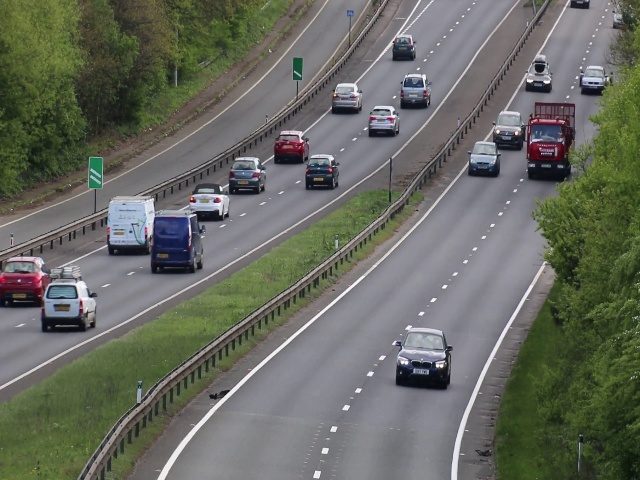car: (147, 214, 204, 276), (397, 327, 453, 389), (526, 108, 573, 181), (104, 193, 160, 254), (1, 256, 55, 311), (41, 277, 97, 328), (187, 181, 230, 221), (228, 155, 266, 194), (468, 138, 500, 180), (398, 73, 434, 110), (304, 151, 338, 188), (274, 128, 307, 165), (495, 108, 521, 152), (523, 59, 554, 91), (367, 106, 400, 136), (389, 29, 418, 63), (579, 62, 607, 95), (332, 82, 362, 111)
